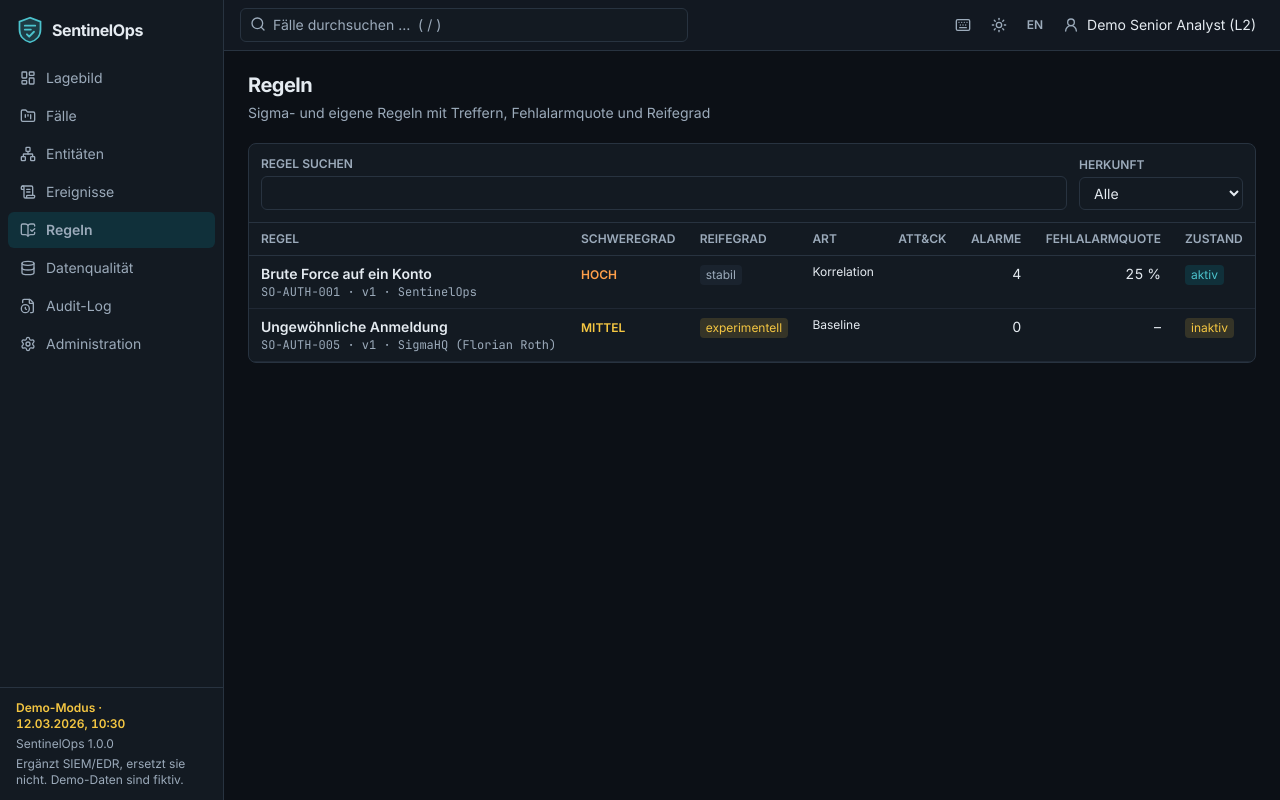
it: rules › lists rules with hits, false positive rate, maturity and origin; filters
This screenshot has width=1280, height=800.
Expected: the text "25 %" is shown, x1=1033 y1=256 x2=1173 y2=308
Expected: the text "experimentell" is shown, x1=700 y1=318 x2=788 y2=338
Select "SigmaHQ (DRL 1.1)" in the dropdown labelled "Herkunft" at (1161, 194), box x1=1079 y1=177 x2=1243 y2=210
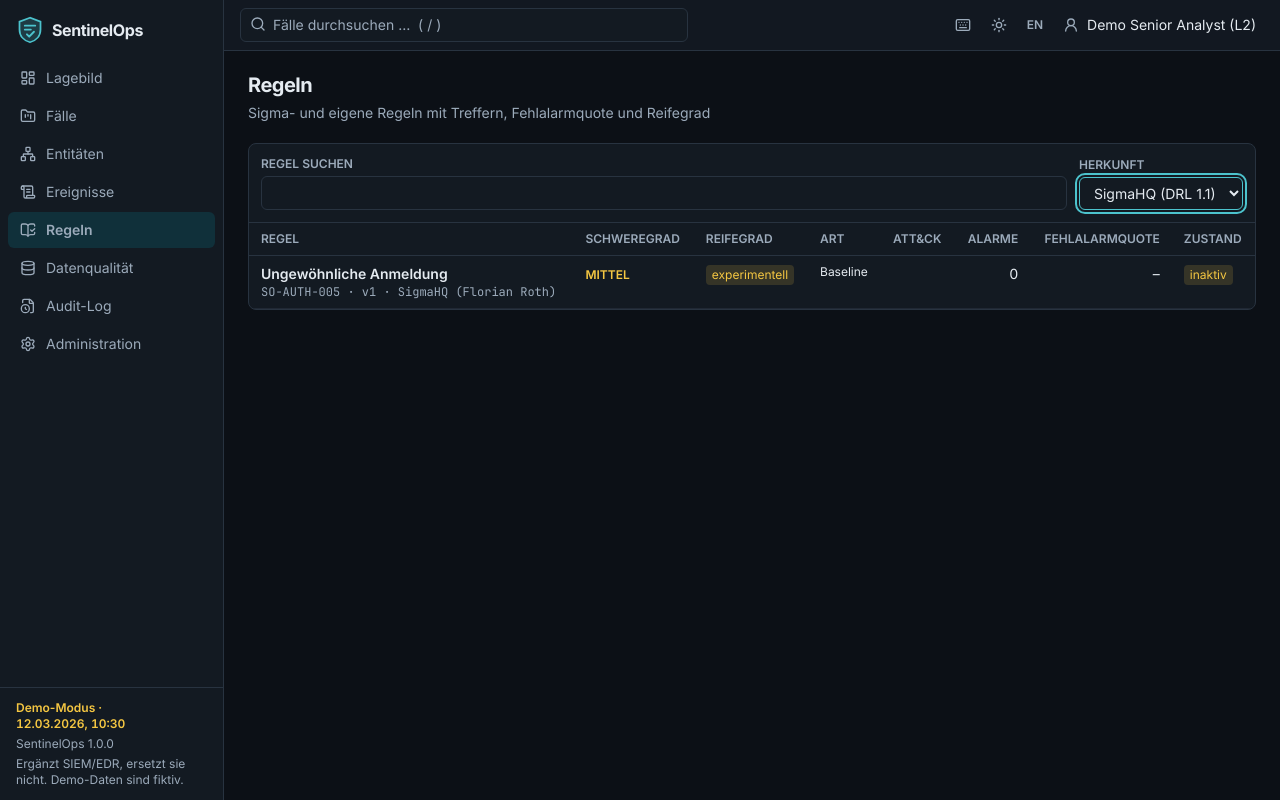
Result: the number of rows is 2 at x1=249 y1=223 x2=1255 y2=256; x1=249 y1=256 x2=1255 y2=308
Select "Alle" in the dropdown labelled "Herkunft" at (1161, 194), box x1=1079 y1=177 x2=1243 y2=210
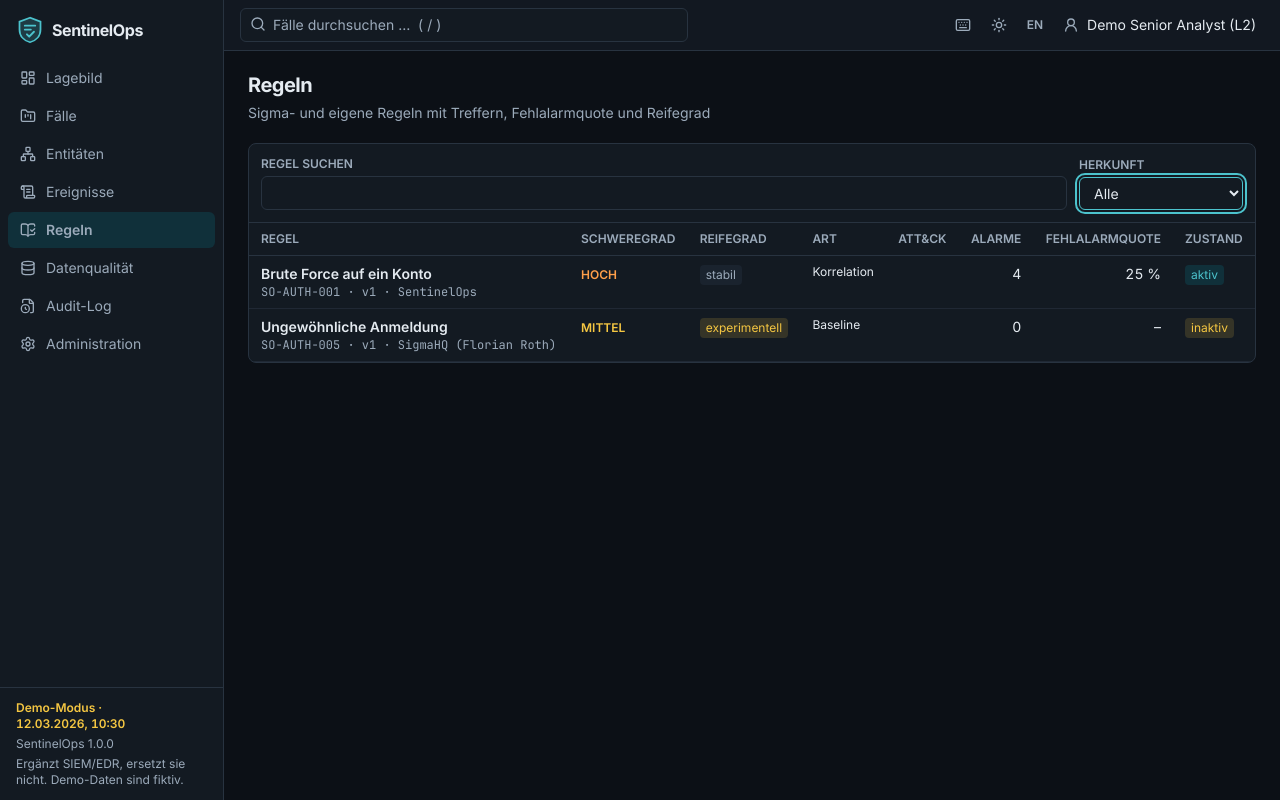
Type "brute" into the field labelled "Regel suchen" at (664, 193), box x1=261 y1=176 x2=1067 y2=210
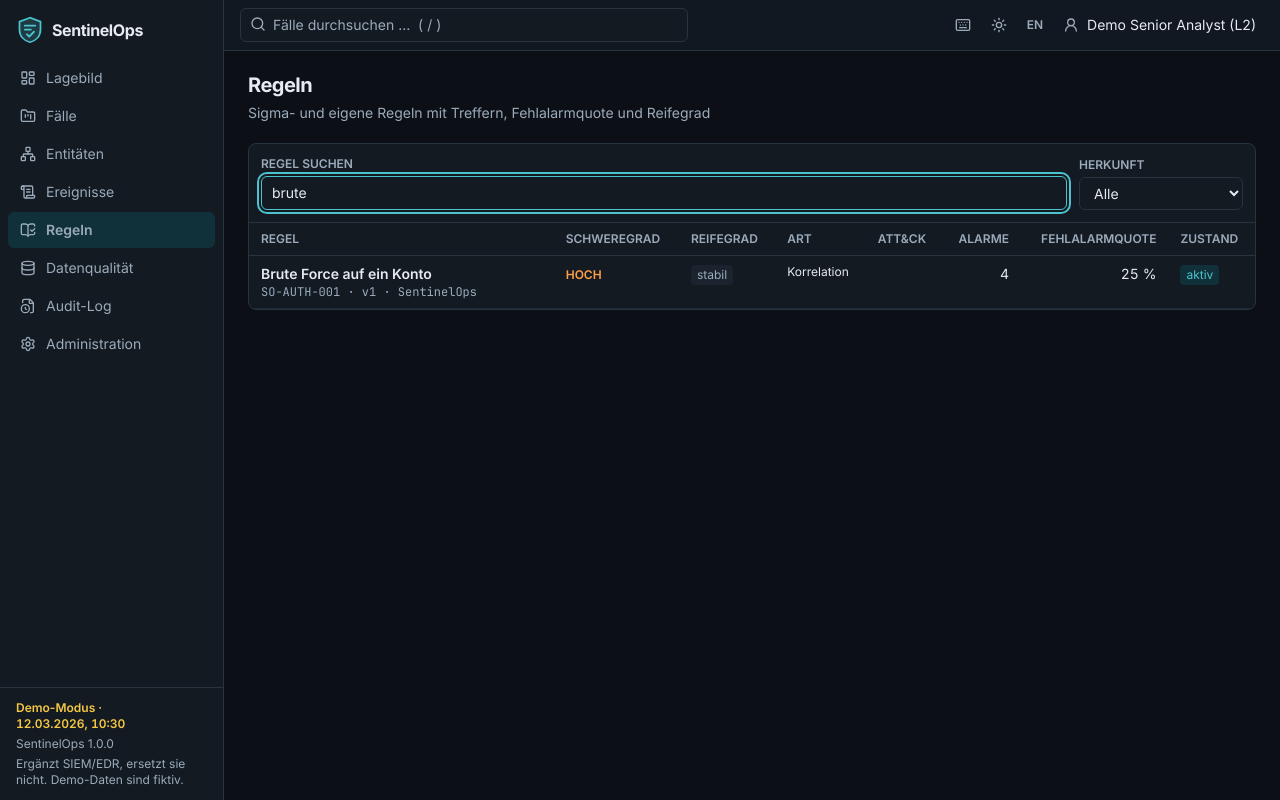
Result: the number of rows is 2 at x1=249 y1=223 x2=1255 y2=256; x1=249 y1=256 x2=1255 y2=308
